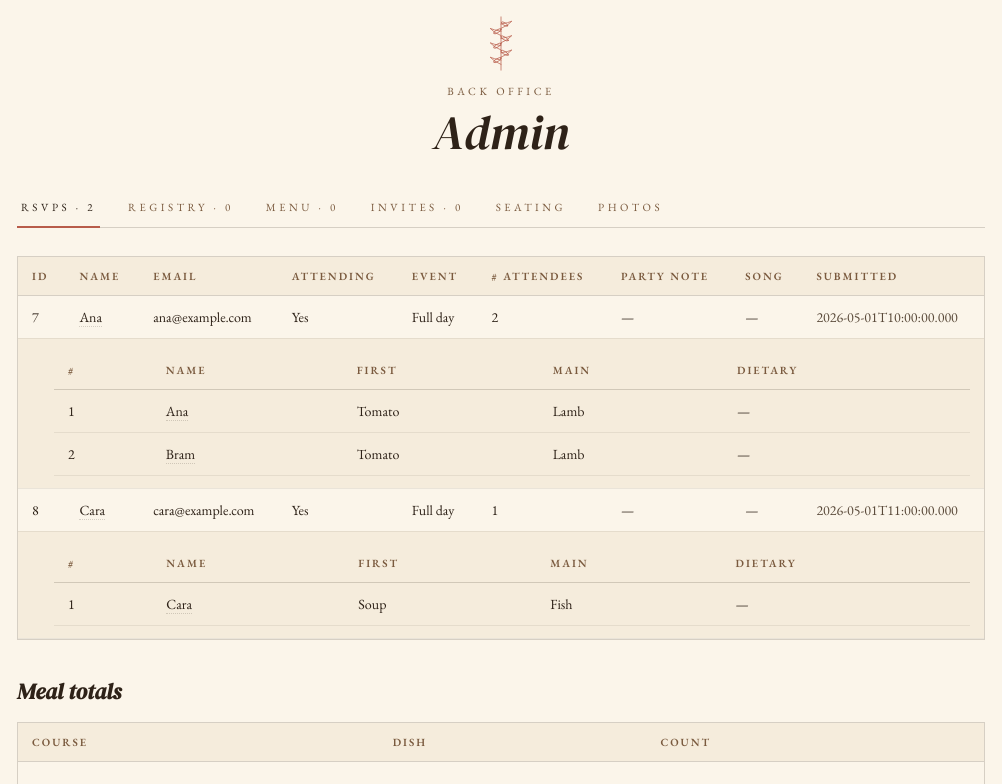
it: AdminDashboard — renaming guests › blurring the input saves, just like Enter
Click the button with aria-label "Lead name: Ana". click: (91, 317)
box: x1=79 y1=308 x2=102 y2=327
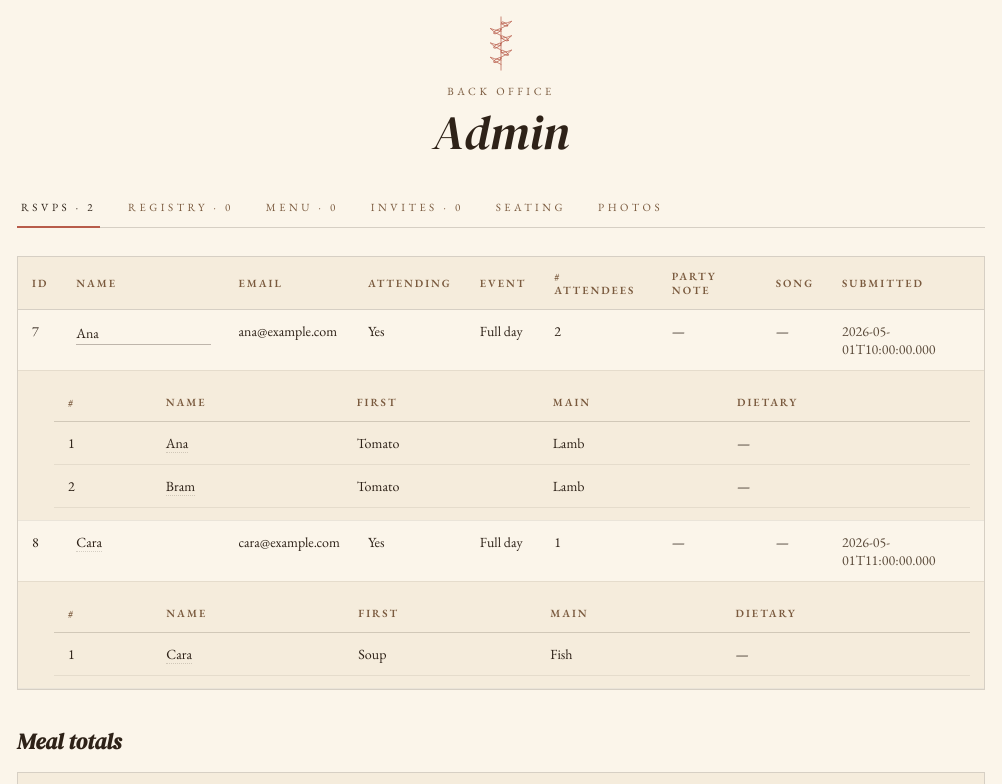
Replace the text in the field named "Lead name: Ana" with "Anna Peeters". click: (143, 333)
box: x1=76 y1=322 x2=211 y2=345
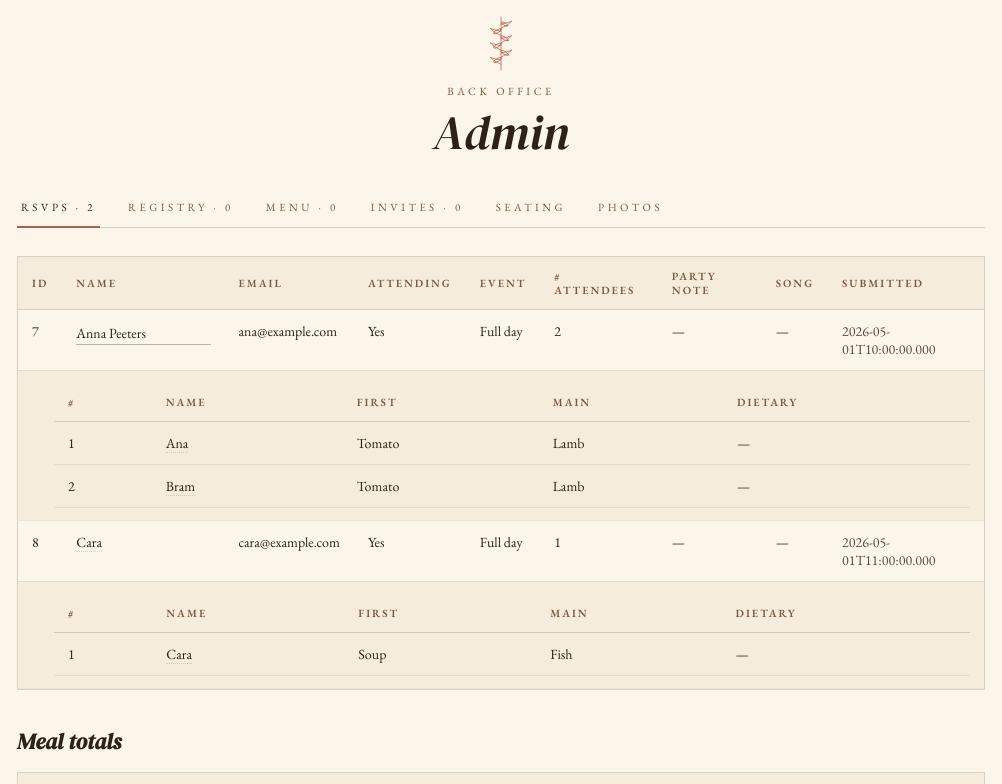
Leave the field named "Lead name: Ana", box x1=76 y1=322 x2=211 y2=345
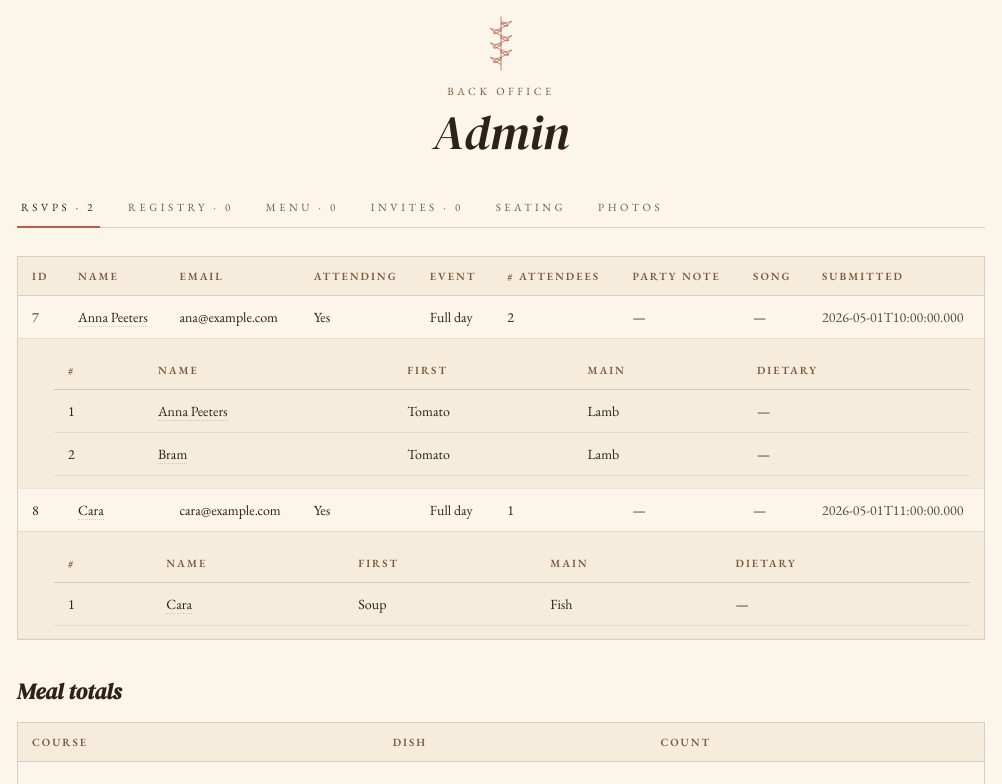
expect the number of buttons "Anna Peeters" is 2: met, box x1=78 y1=308 x2=148 y2=327; x1=158 y1=402 x2=228 y2=421
